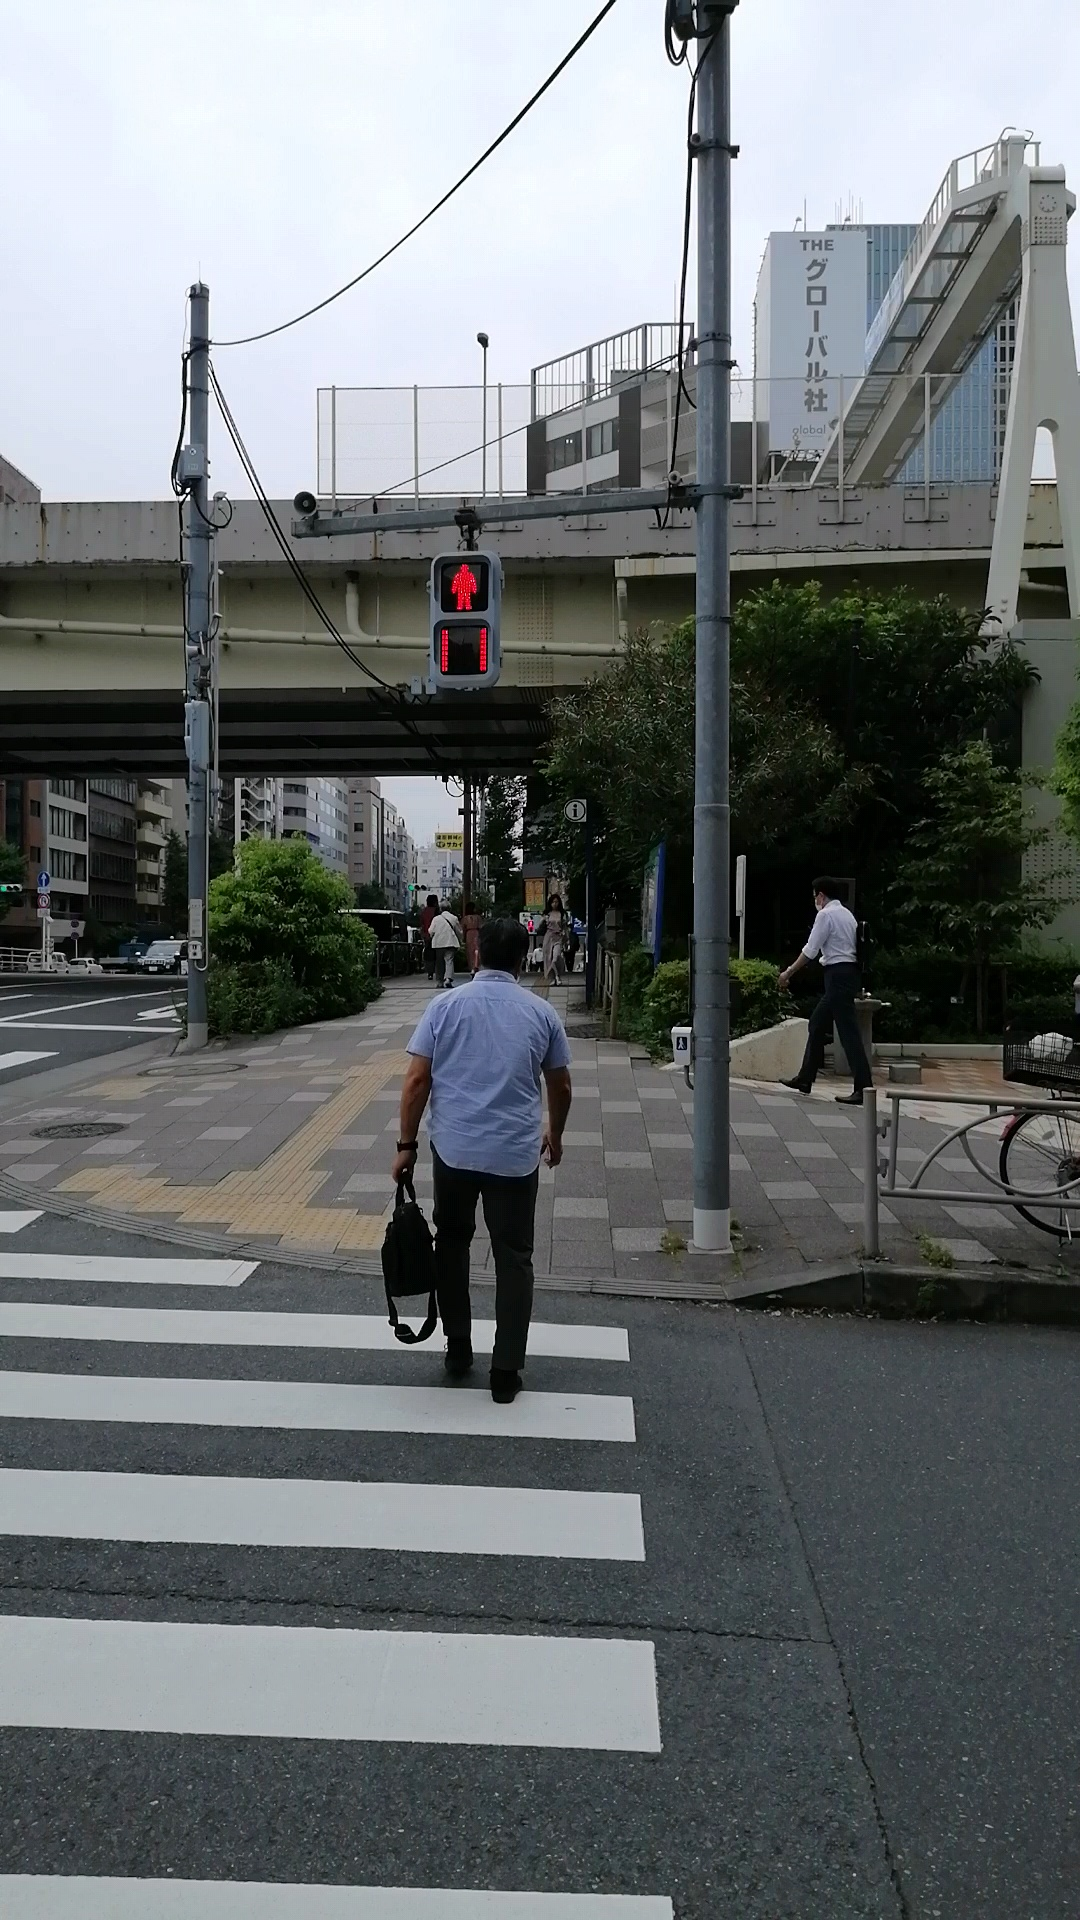red: (425, 545, 501, 688)
